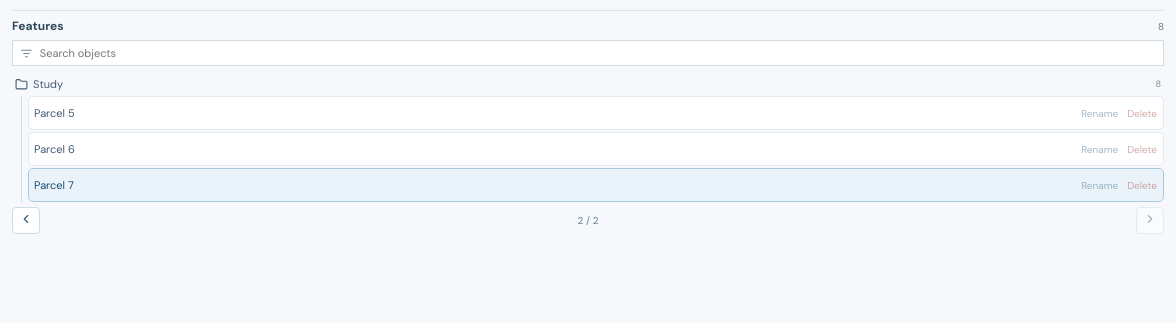
Test: shared research workbench chrome › locks mutations and pages objects without hiding the selected object
The image size is (1176, 323).
Click the button named "Previous objects". click: (26, 220)
box: [12, 207, 40, 234]
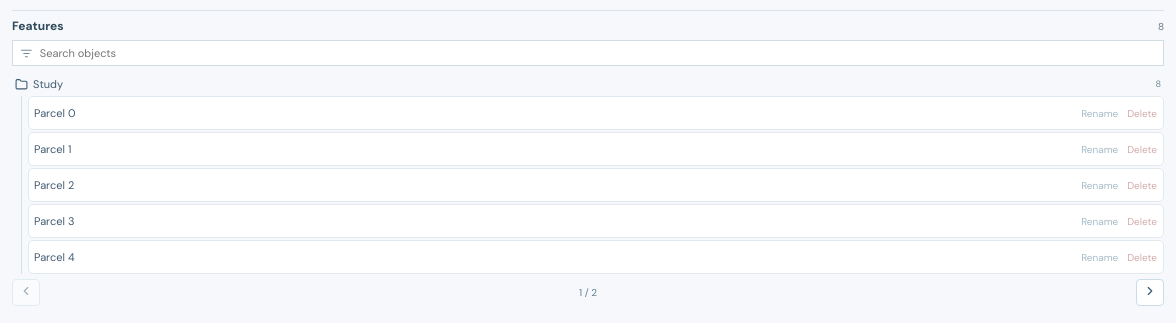
Check: the button "Parcel 0" is shown, box [29, 97, 1075, 129]
Check: the button "Parcel 7" is gone
